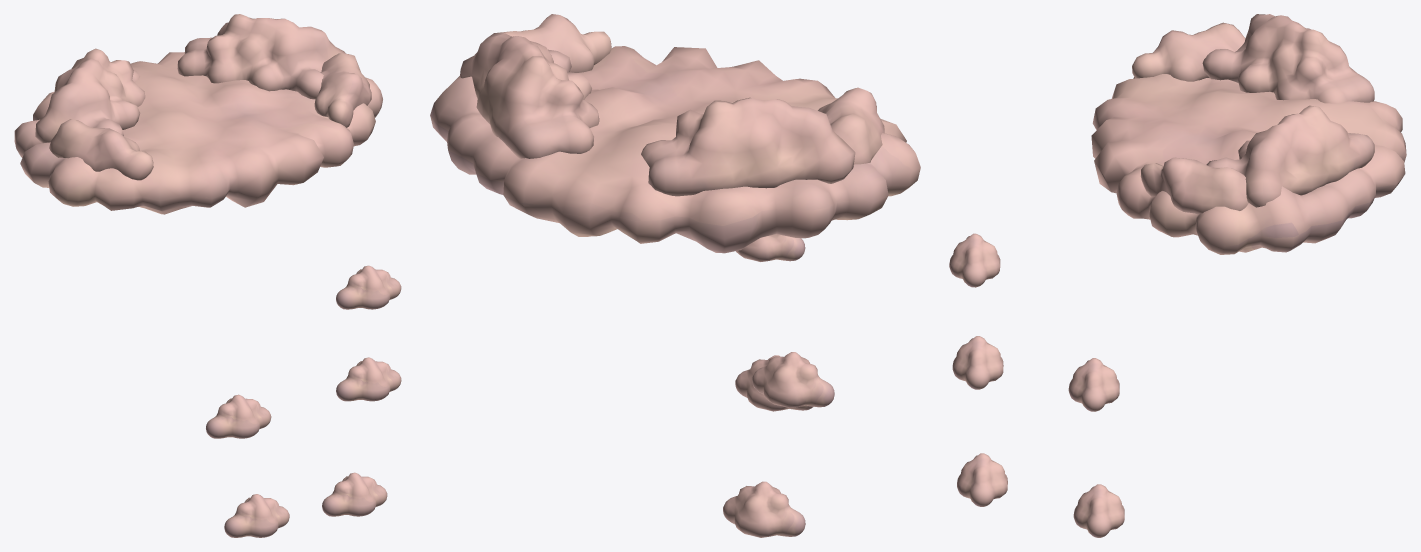
Rendered from Nubes.fbx.
The picture shows the model from 3 angles, left to right: view 1: azimuth 30°, elevation 25°; view 2: azimuth 150°, elevation 25°; view 3: azimuth 270°, elevation 25°; orthographic projection. The views are drawn at different scales.
Visible parts, largest first — view 1: N 1, N2, N3; view 2: N 1, N2, N3; view 3: N 1, N2, N3.
Boxes of the visible parts, x1,y1,x2,y2 form: N 1: (14,52,382,214); N2: (35,14,371,180); N3: (206,265,401,537); N 1: (430,46,920,253); N2: (460,14,884,196); N3: (723,234,834,537); N 1: (1091,74,1406,254); N2: (1132,14,1374,214); N3: (949,233,1124,537).
Bounding box in the file's own units: 10008 × 11862 × 10618.
1 material, 1 textured.
